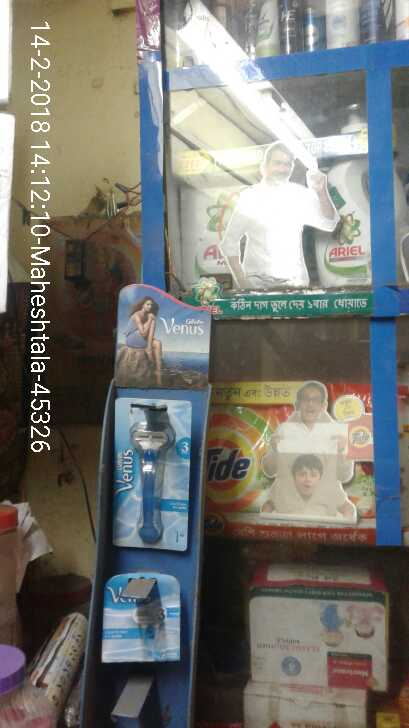beauty: (115, 400, 189, 553), (91, 565, 191, 670)
home: (205, 394, 271, 518)
